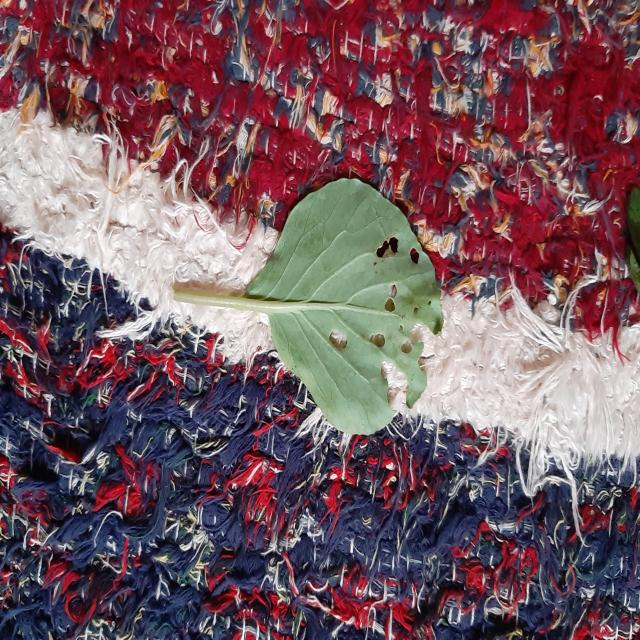Kohlrabi: (246, 178, 442, 433)
